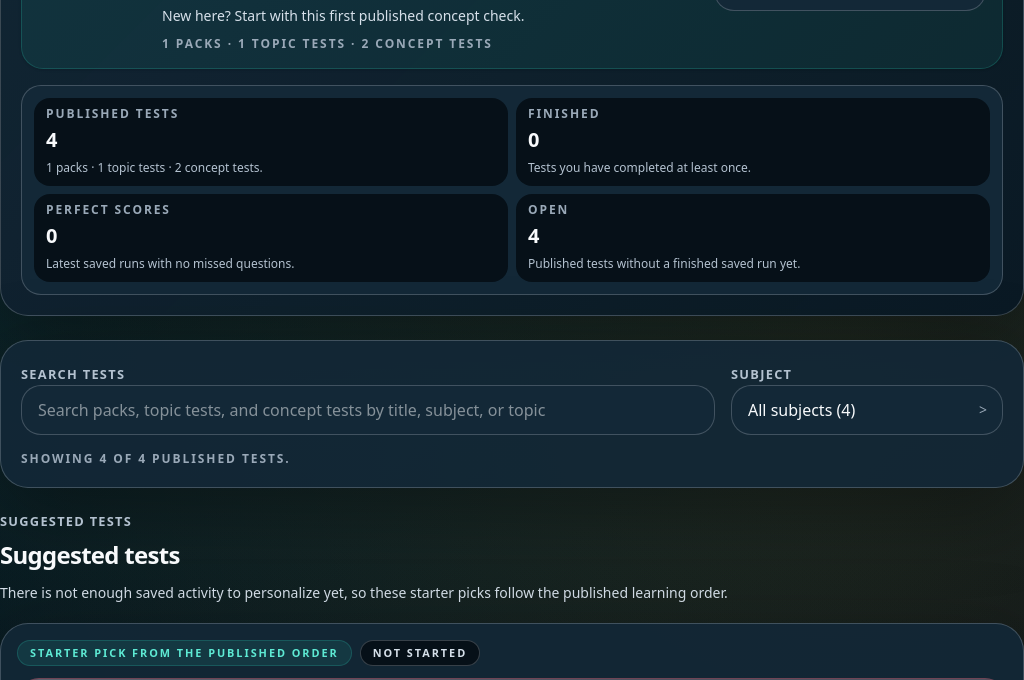
Test: TestHubPage › filters the combined catalog by search and subject
The image size is (1024, 680).
(page scrolled)
Expected: the text with test id "test-hub-filter-summary" reads "Showing 4 of 4 published tests.", [21, 450, 291, 467]
Type "connections" into the field labelled "Search tests" at {"x": 368, "y": 410}, box [21, 385, 715, 435]
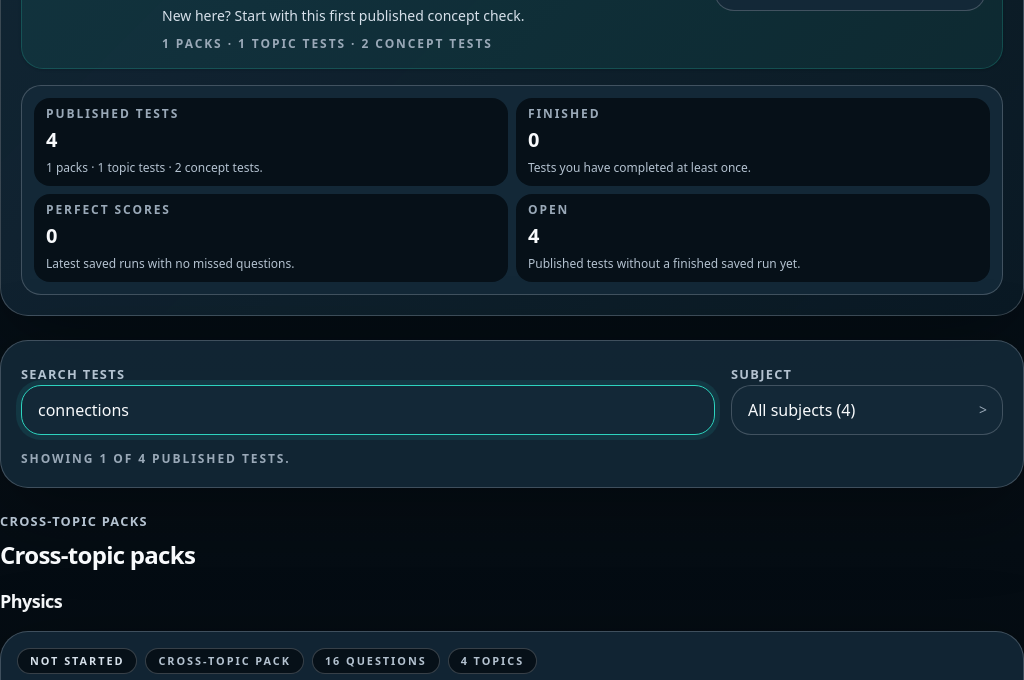
Expected: the text with test id "test-hub-filter-summary" reads "Showing 1 of 4 published tests.", [21, 450, 291, 467]
Clear the field labelled "Search tests" at {"x": 368, "y": 410}, box [21, 385, 715, 435]
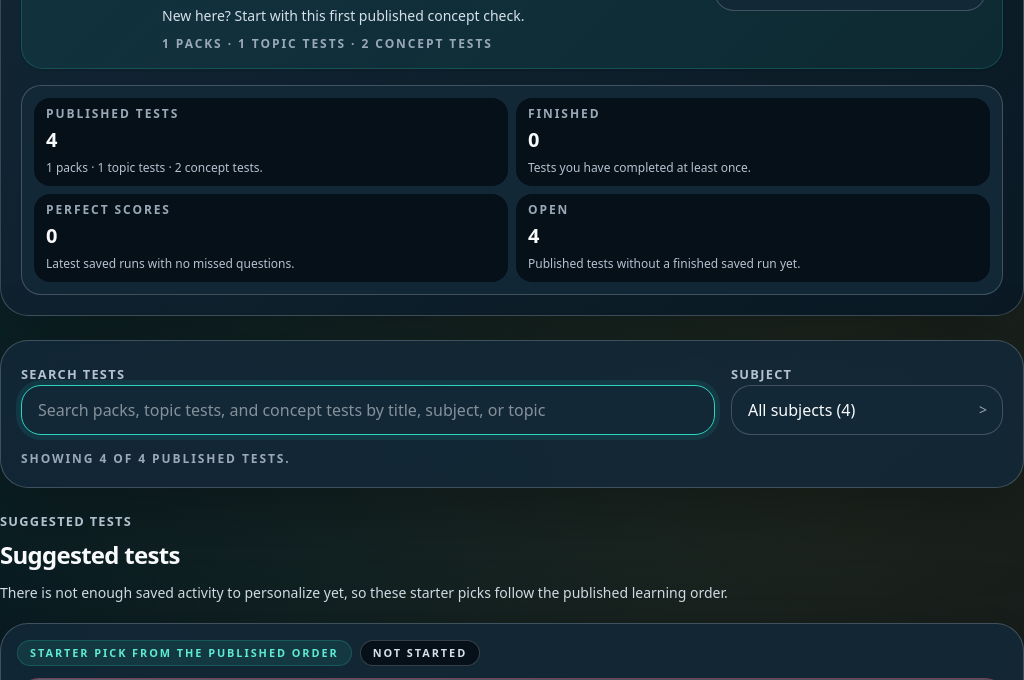
Select "Computer Science (1)" in the dropdown named "Subject filter" at {"x": 867, "y": 410}, box [731, 385, 1003, 435]
(page scrolled)
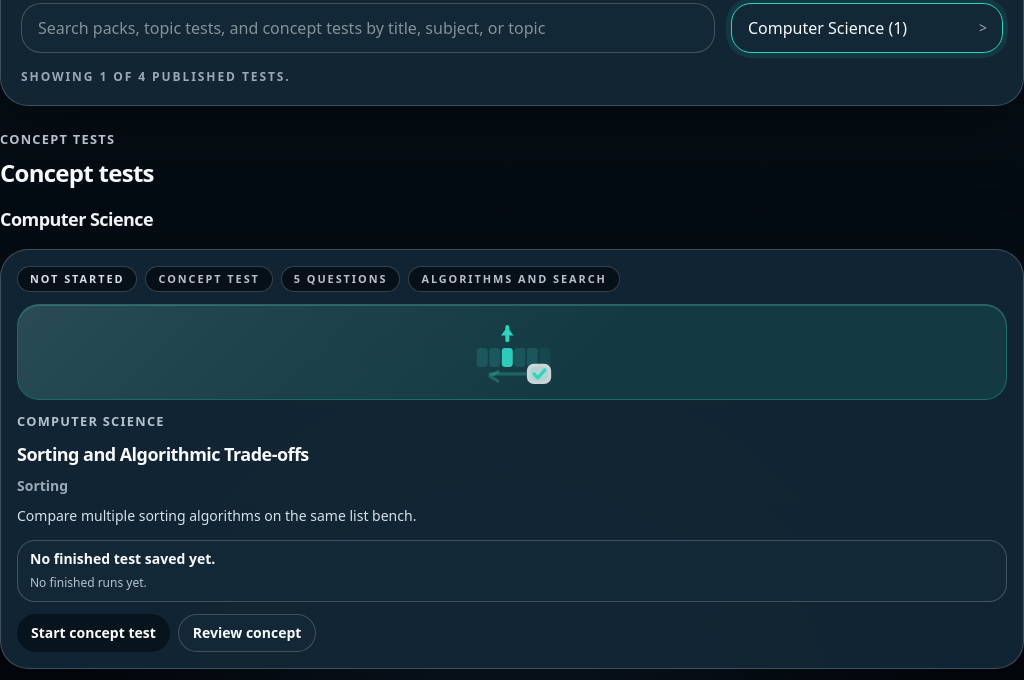
Expected: the element with test id "test-hub-card-concept-sorting-and-algorithmic-trade-offs" is shown
Expected: the text with test id "test-hub-filter-summary" reads "Showing 1 of 4 published tests.", [21, 68, 291, 85]
